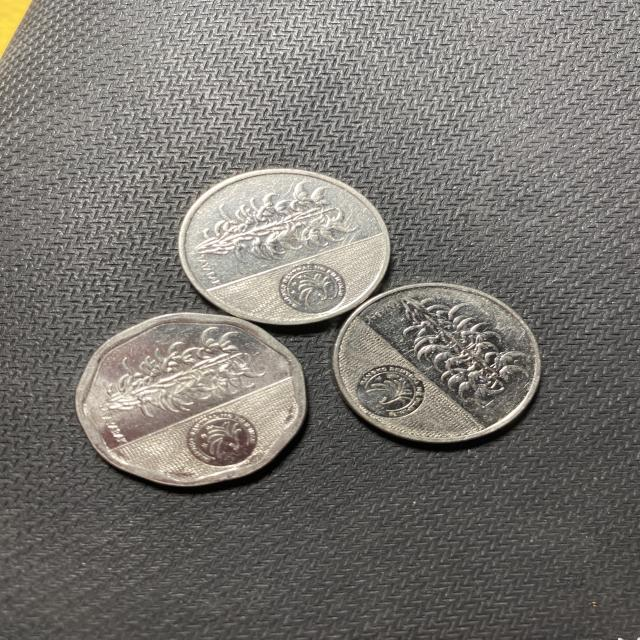5_New_Back: (111, 327, 260, 425), (394, 292, 520, 402), (202, 186, 351, 258)
